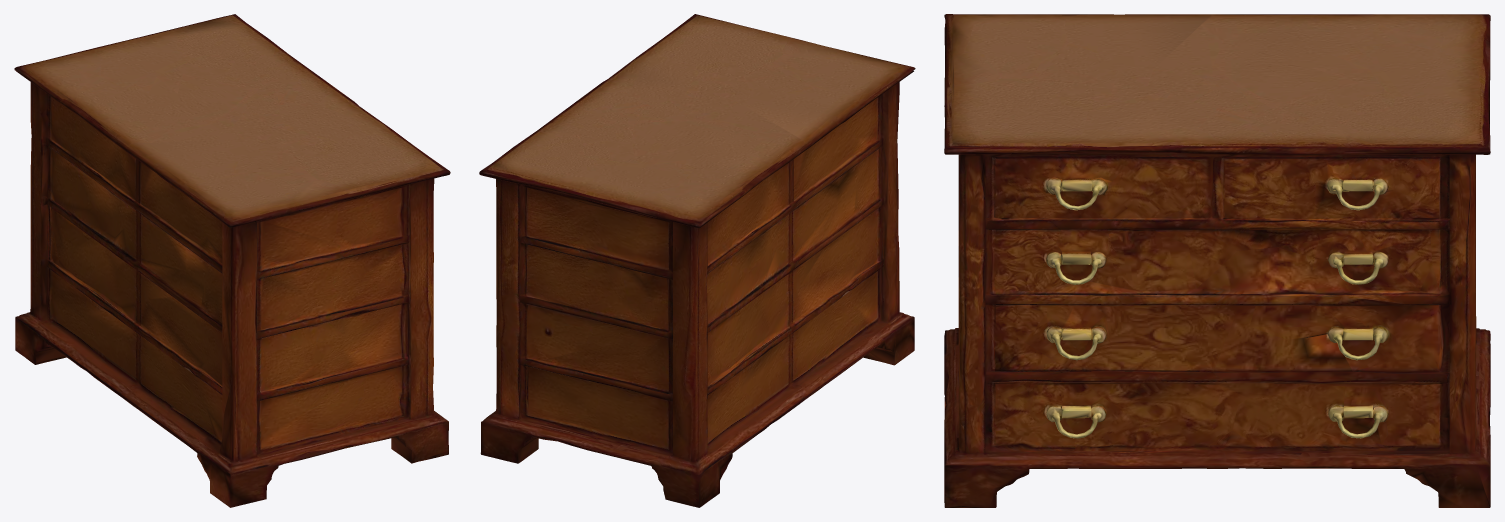
File: comoda.glb
3 views of the same model, side by side, from view 1: azimuth 30°, elevation 25°; view 2: azimuth 150°, elevation 25°; view 3: azimuth 270°, elevation 25° (orthographic). The views are drawn at different scales.
Parts seen in each view (by area): view 1: tripo_node_70bef20e-fc85-48ee-9fb9-f59359cd6e52; view 2: tripo_node_70bef20e-fc85-48ee-9fb9-f59359cd6e52; view 3: tripo_node_70bef20e-fc85-48ee-9fb9-f59359cd6e52.
Boxes of the visible parts, left/top/right/bottom form: tripo_node_70bef20e-fc85-48ee-9fb9-f59359cd6e52: left=14, top=14, right=450, bottom=507; tripo_node_70bef20e-fc85-48ee-9fb9-f59359cd6e52: left=479, top=14, right=915, bottom=507; tripo_node_70bef20e-fc85-48ee-9fb9-f59359cd6e52: left=944, top=14, right=1490, bottom=507.
Bounding box in the file's own units: 0.5914 × 0.7312 × 1.
Materials: 1 (1 with a texture image).
